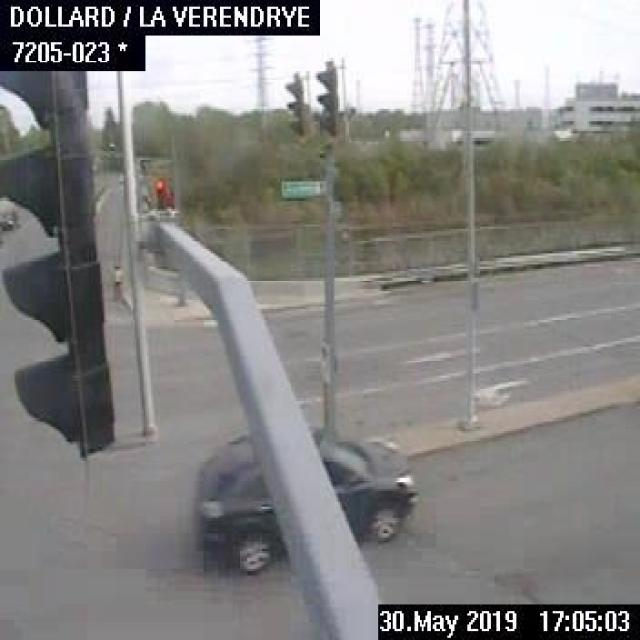pedestrian: (108, 258, 125, 305)
vehicle: (189, 427, 420, 573), (0, 200, 20, 231)
